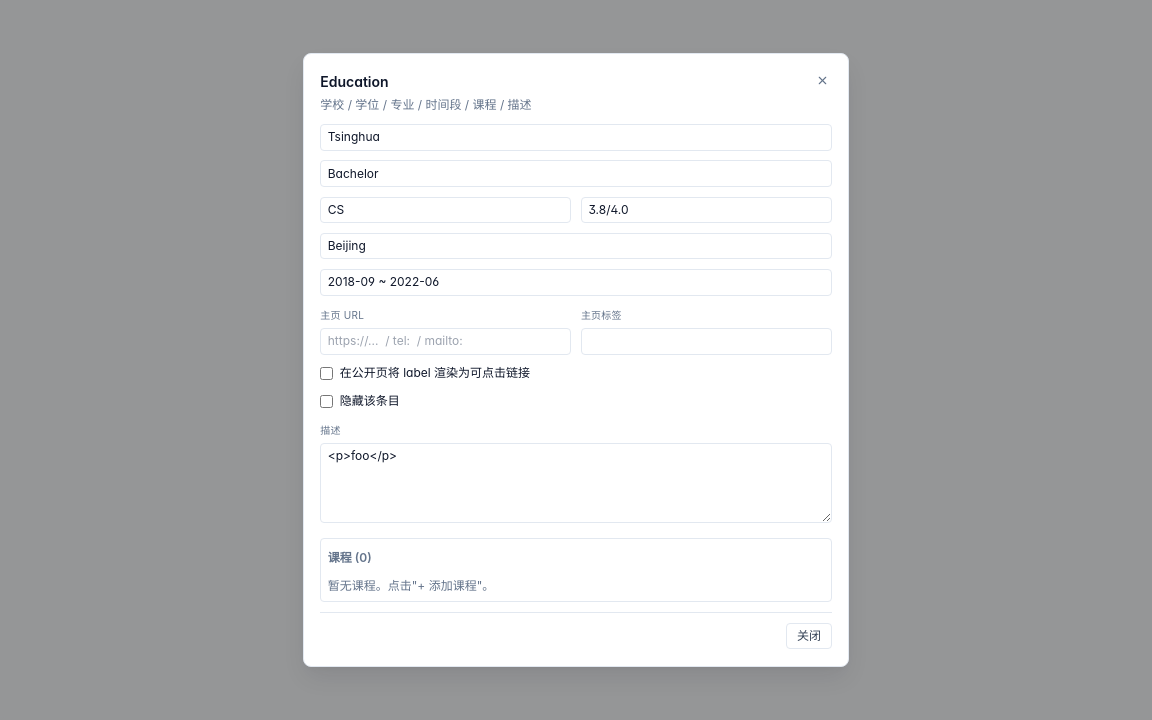
EducationDialog (AC-03, AC-04, AC-11, AC-13, AC-14, AC-16) › URL whitelist accepts https/tel/mailto/IPv6/unicode, rejects javascript: (AC-13)
Step 1. Type "https://[::1]:8080" into the field with test id "education-website-url" → (446, 341), box [320,328,571,355]
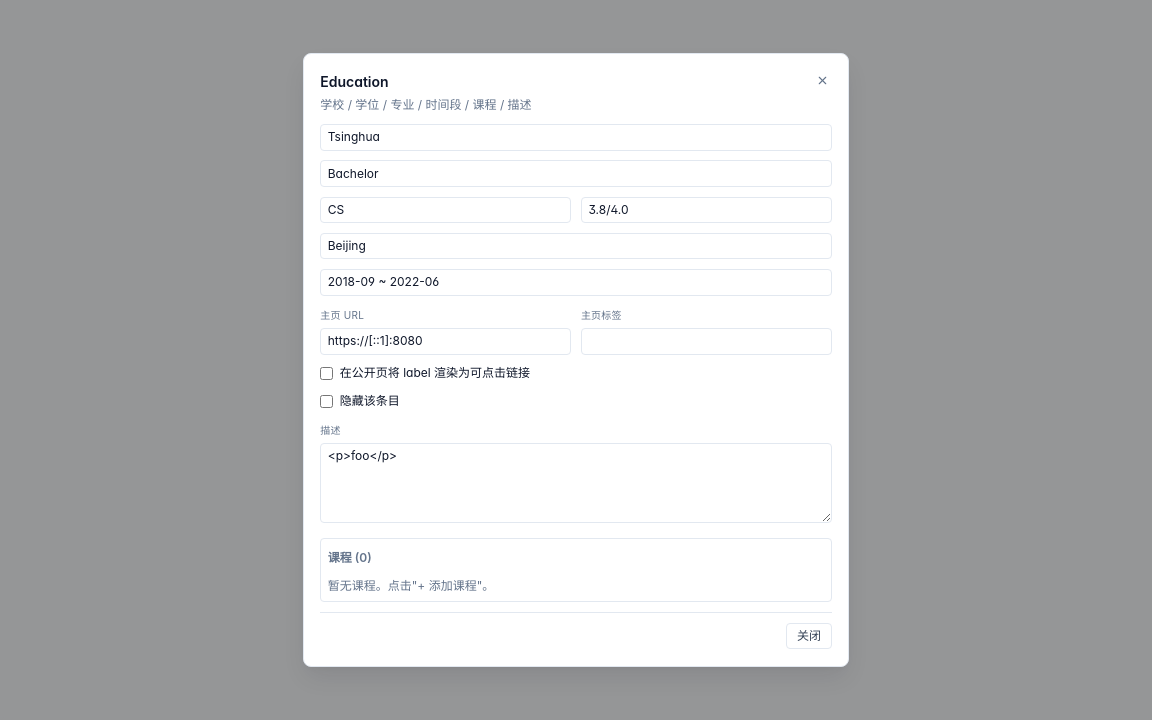
Step 2. Replace the text in the field with test id "education-website-url" with "tel:+86-010-1234" → (446, 341), box [320,328,571,355]
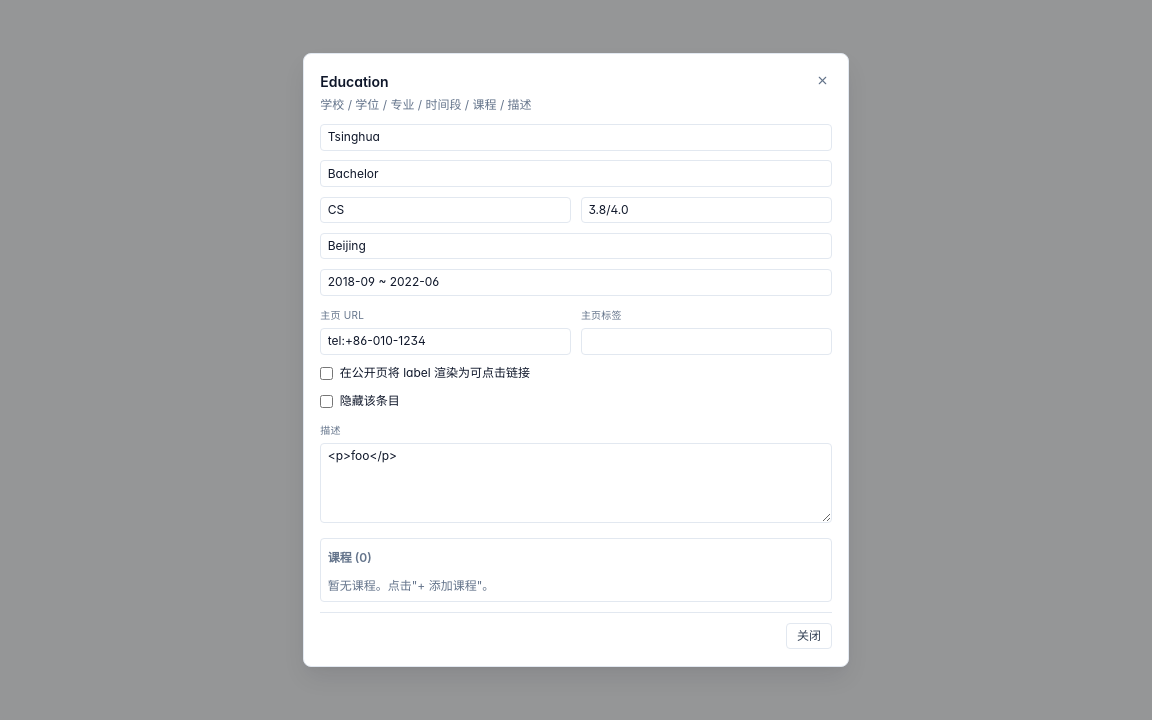
Step 3. Replace the text in the field with test id "education-website-url" with "mailto:a@b.com" → (446, 341), box [320,328,571,355]
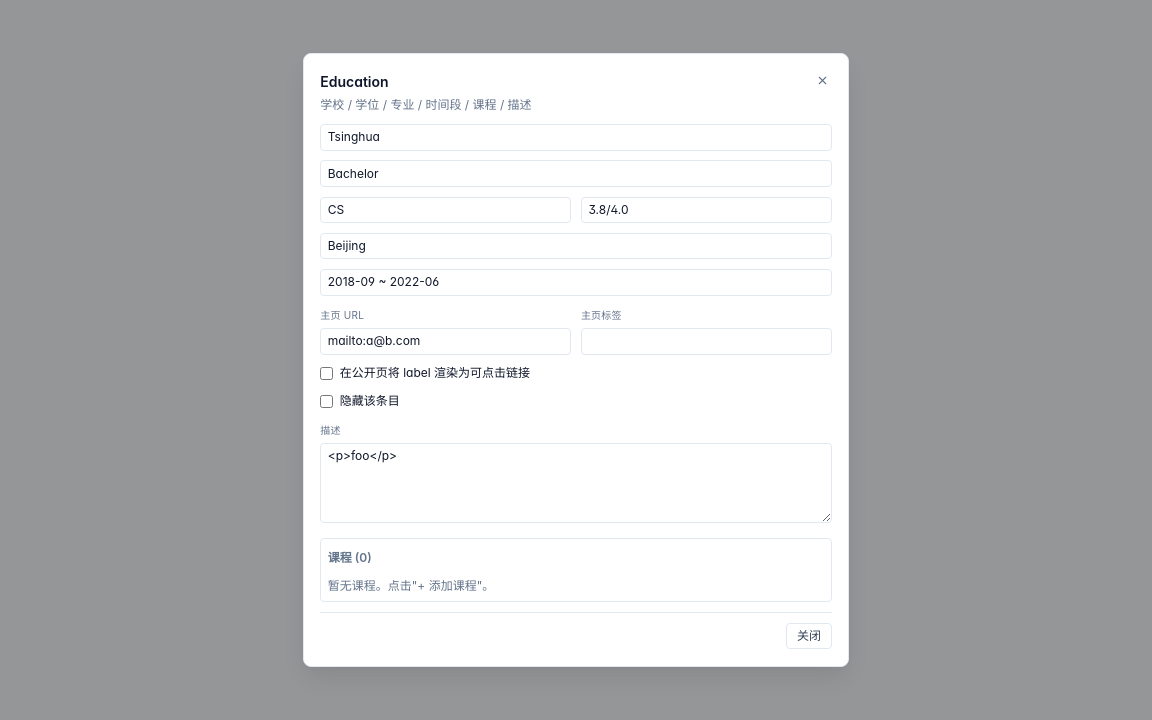
Step 4. Replace the text in the field with test id "education-website-url" with "https://中文.cn" → (446, 341), box [320,328,571,355]
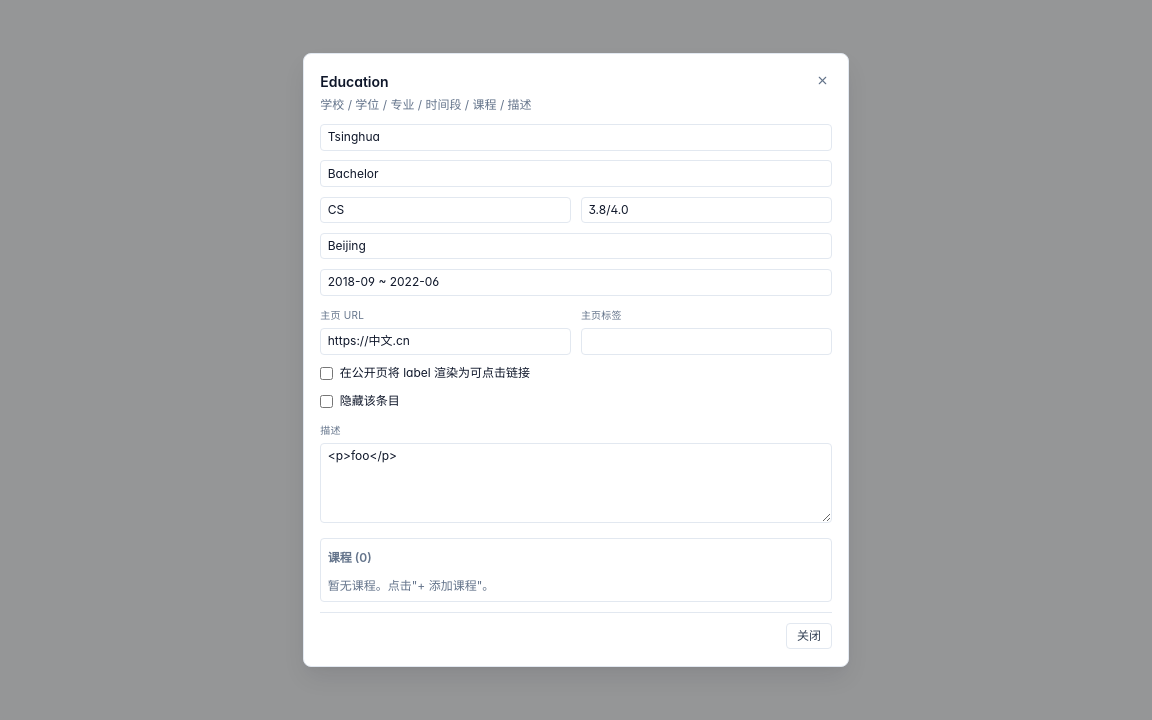
Step 5. Replace the text in the field with test id "education-website-url" with "javascript:alert(1)" → (446, 341), box [320,328,571,355]
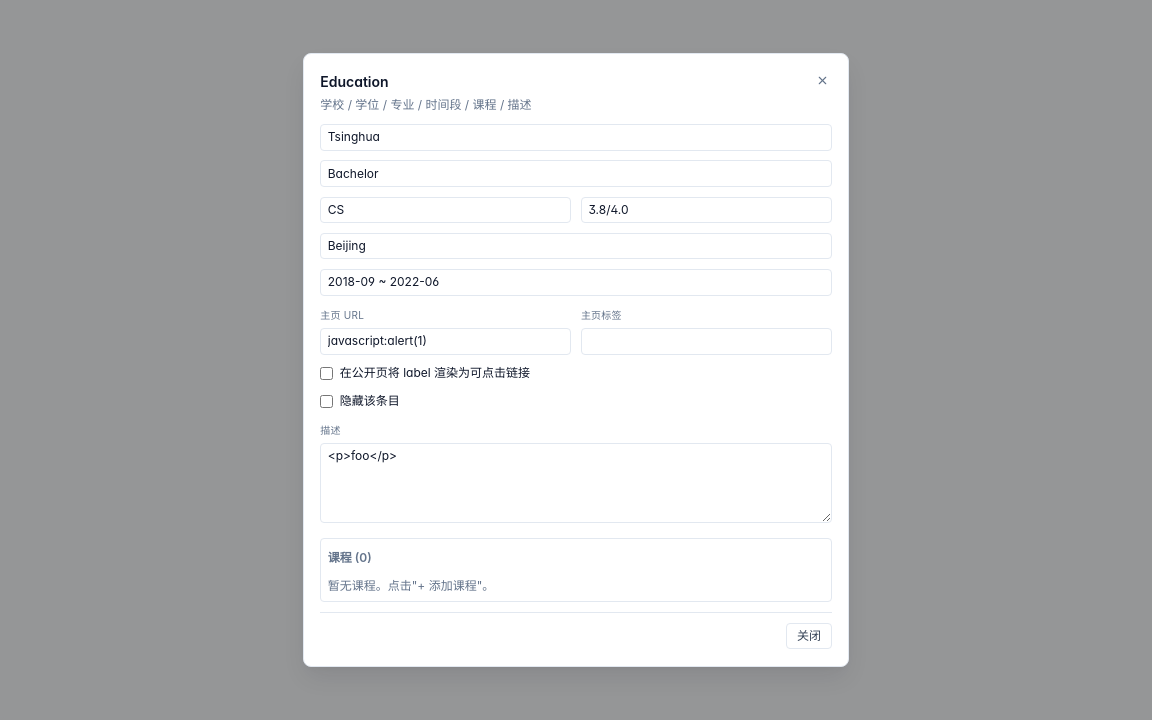
Step 6. Leave the field with test id "education-website-url", box [320,328,571,355]
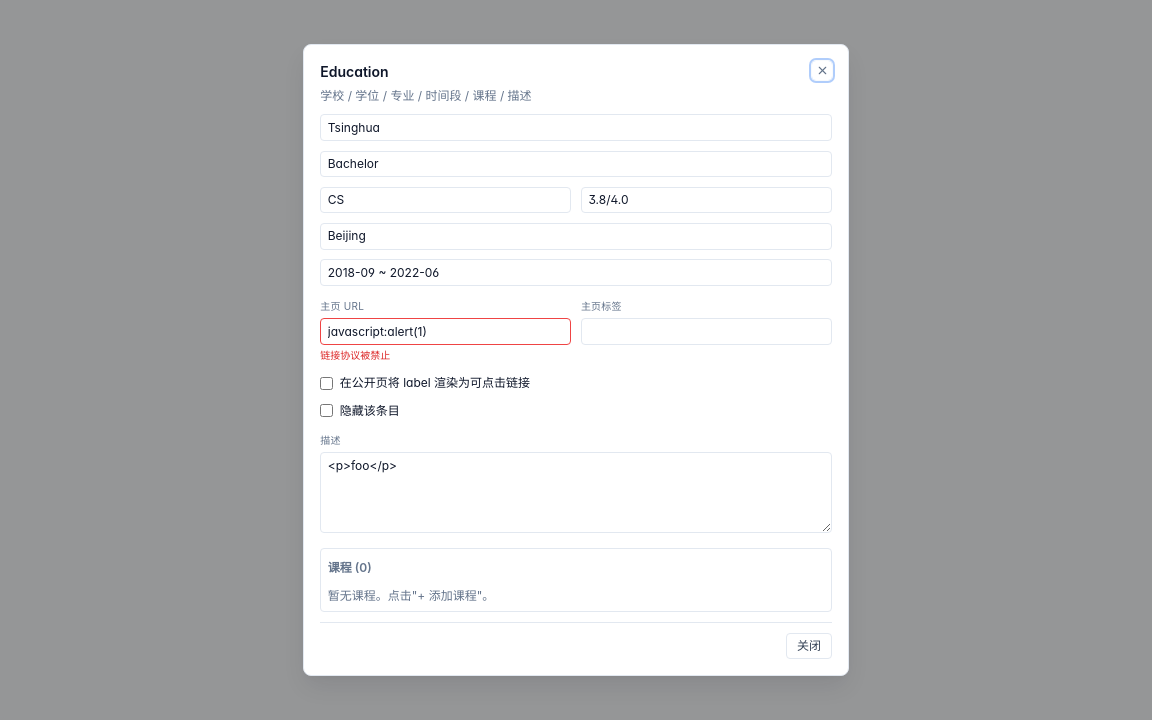
Check: the message "链接协议被禁止" is shown, box [320,349,390,361]
